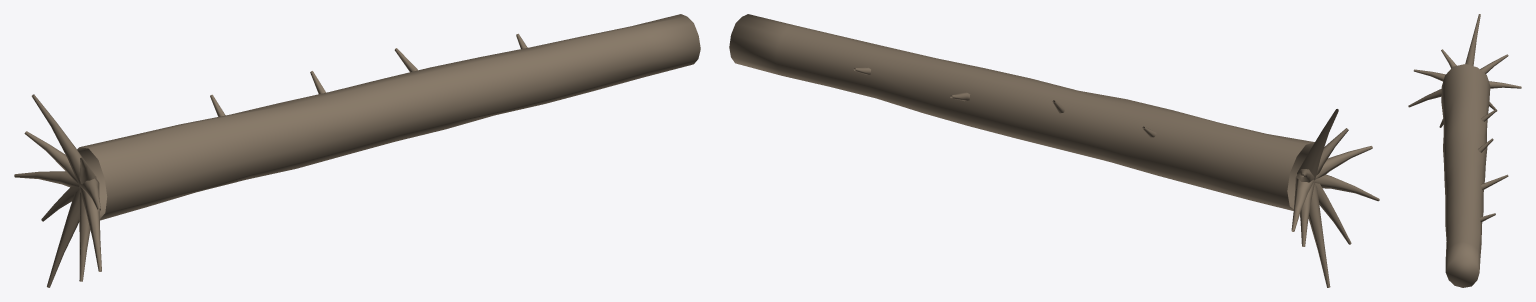
The model's file is ENV_PC_FallenTrunk_A.fbx.
3 renders of one model, left to right at view 1: azimuth 30°, elevation 25°; view 2: azimuth 150°, elevation 25°; view 3: azimuth 270°, elevation 25°, orthographic. The views are drawn at different scales.
Visible parts, largest first — view 1: ENV_PC_FallenTrunk_A_LOD0; view 2: ENV_PC_FallenTrunk_A_LOD0; view 3: ENV_PC_FallenTrunk_A_LOD0.
Part boxes in pixels (x1,y1,x2,y2): ENV_PC_FallenTrunk_A_LOD0: (14, 14, 700, 287); ENV_PC_FallenTrunk_A_LOD0: (729, 14, 1379, 287); ENV_PC_FallenTrunk_A_LOD0: (1408, 14, 1521, 287).
Size of what is drawn, in the model's own units: 12.95 by 3.73 by 3.09.
